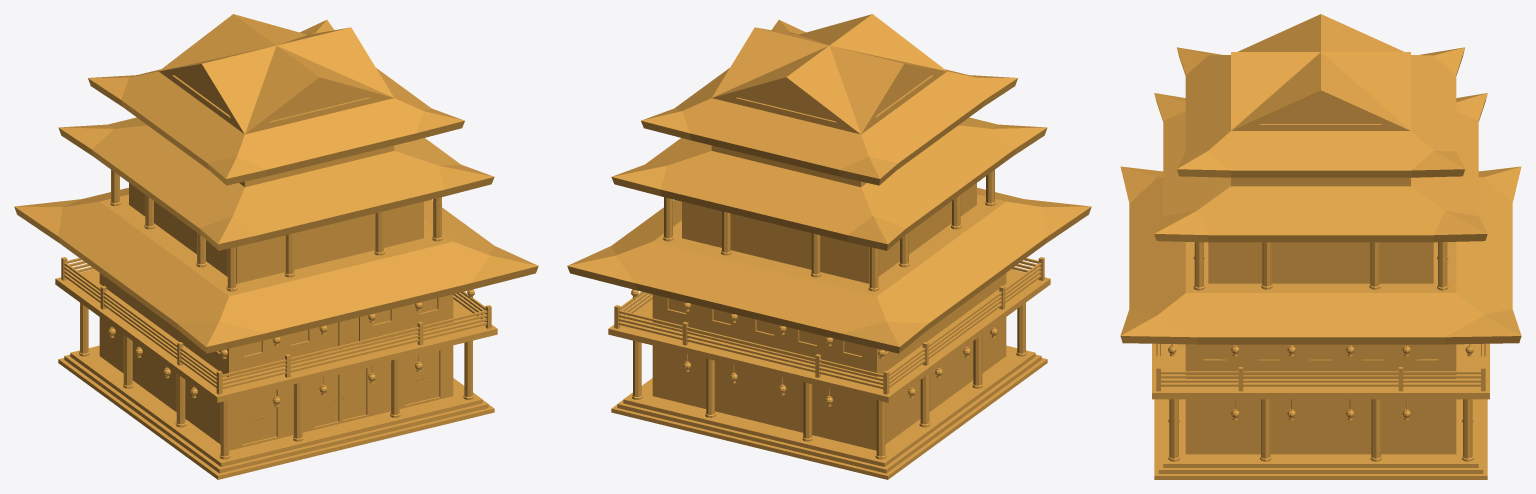
Rendered from building-temple-china.glb.
The picture shows the model from 3 angles, left to right: view 1: azimuth 30°, elevation 25°; view 2: azimuth 150°, elevation 25°; view 3: azimuth 270°, elevation 25°; orthographic projection. The views are drawn at different scales.
Visible parts, largest first — view 1: building-temple-china; view 2: building-temple-china; view 3: building-temple-china.
Boxes of the visible parts, box(x1,y1,x2,y2) form: building-temple-china: box(14, 14, 538, 479); building-temple-china: box(567, 14, 1091, 479); building-temple-china: box(1120, 14, 1521, 479).
Size of the model in its own units: 17.8 by 17.5 by 17.8.
